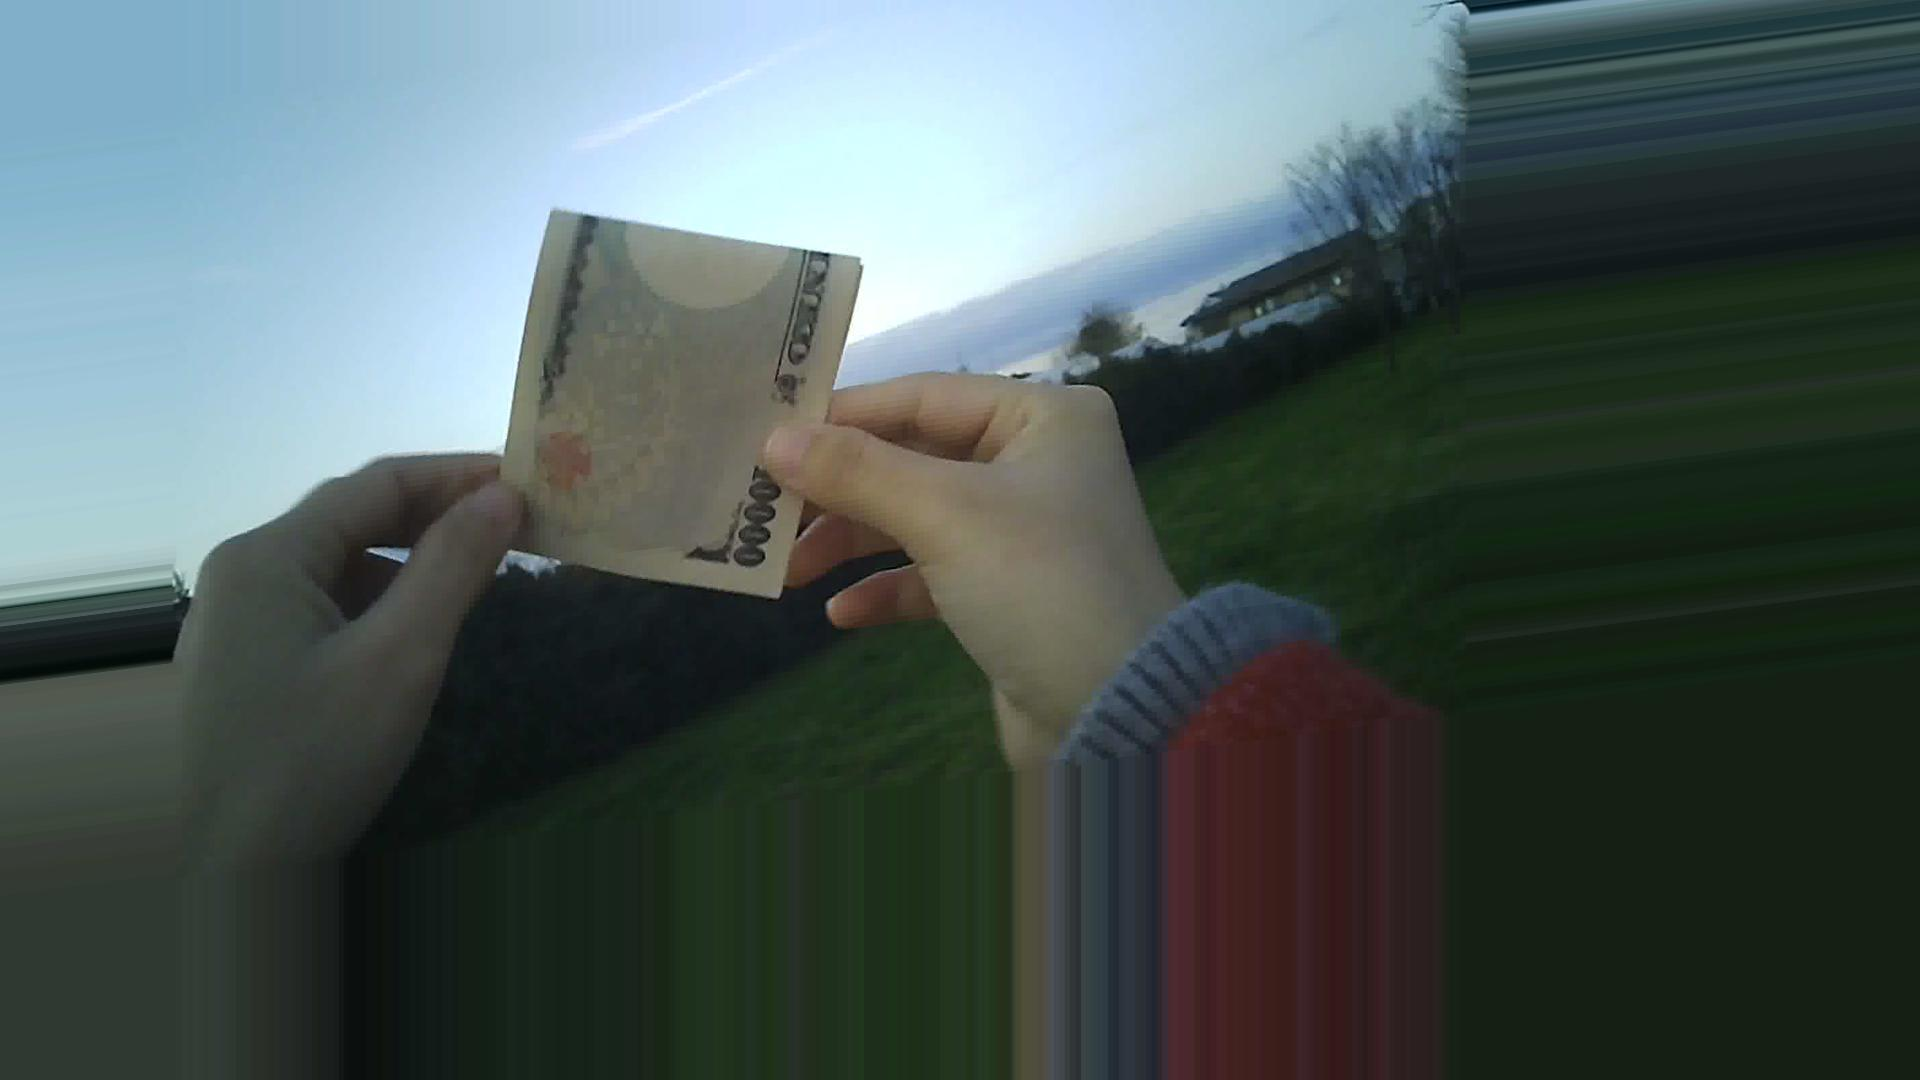10,000 Yen: (497, 187, 873, 688)
